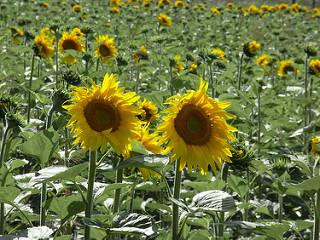sunflower: (158, 77, 241, 179), (67, 73, 148, 156), (58, 31, 89, 64), (32, 31, 56, 66), (94, 36, 121, 65)
